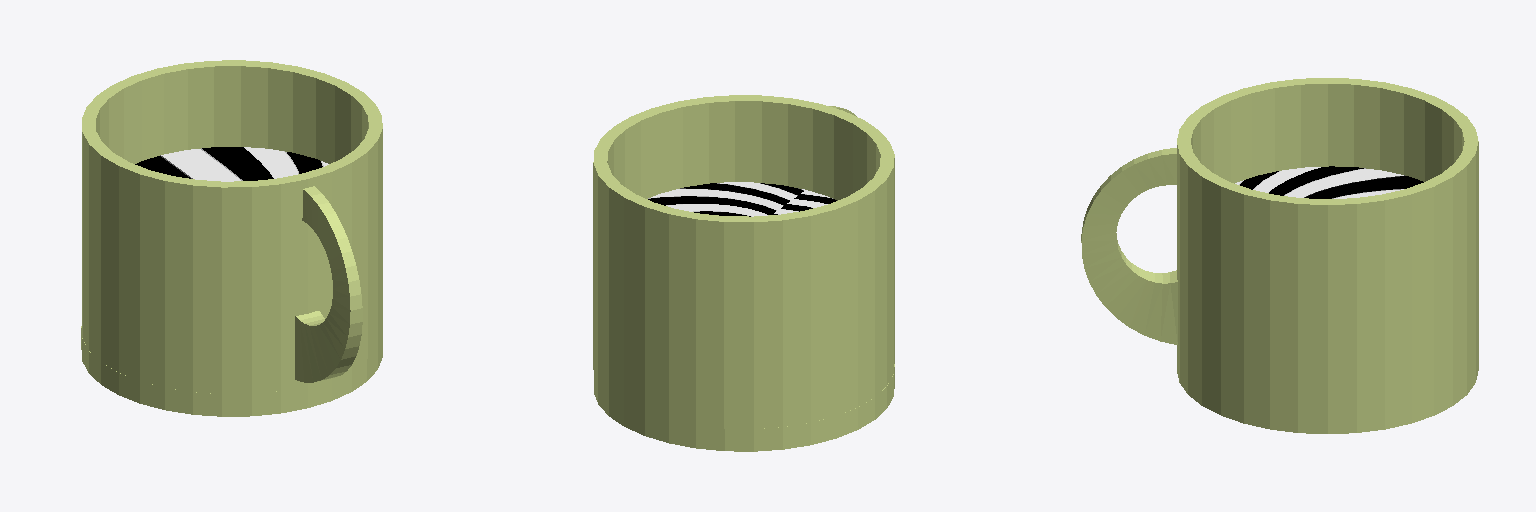
3 renders of one model, left to right at view 1: azimuth 30°, elevation 25°; view 2: azimuth 150°, elevation 25°; view 3: azimuth 270°, elevation 25°, orthographic.
Parts seen in each view (by area): view 1: Tube, handtag, botten, Kaffe; view 2: Tube, botten, Kaffe; view 3: Tube, handtag, botten, Kaffe.
Boxes of the visible parts, box(x1,y1,x2,y2) form: Tube: box(82, 60, 382, 393); handtag: box(295, 186, 362, 382); botten: box(81, 326, 382, 416); Kaffe: box(135, 147, 328, 181); Tube: box(593, 95, 894, 428); botten: box(594, 364, 894, 451); Kaffe: box(648, 182, 836, 216); Tube: box(1177, 78, 1478, 411); handtag: box(1081, 148, 1177, 344); botten: box(1177, 349, 1478, 433); Kaffe: box(1235, 166, 1423, 198).
Size of the model in its own units: 86.06 by 72.04 by 113.
2 materials, 1 textured.